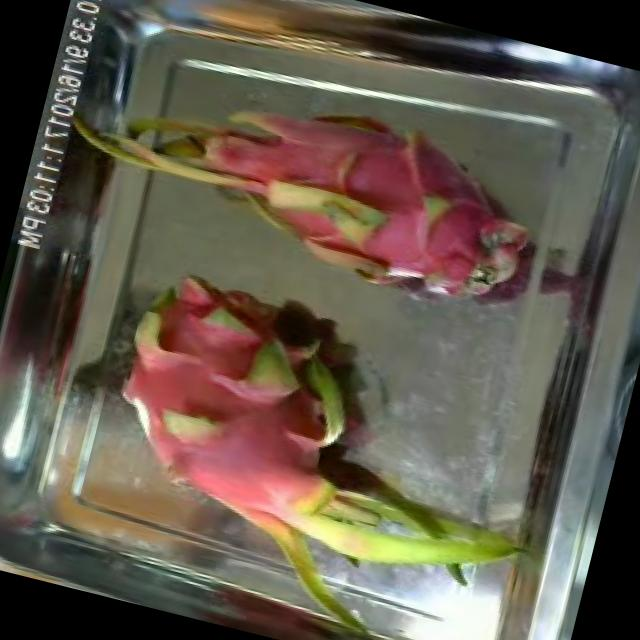Fruit: (302, 434, 421, 513)
